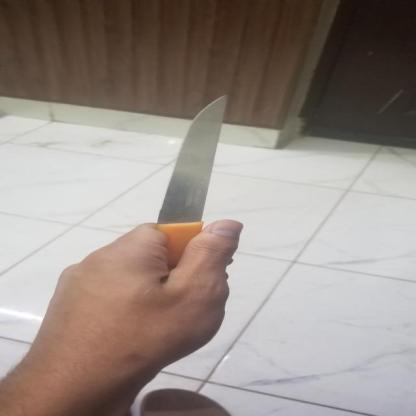Knife: (132, 90, 282, 299)
